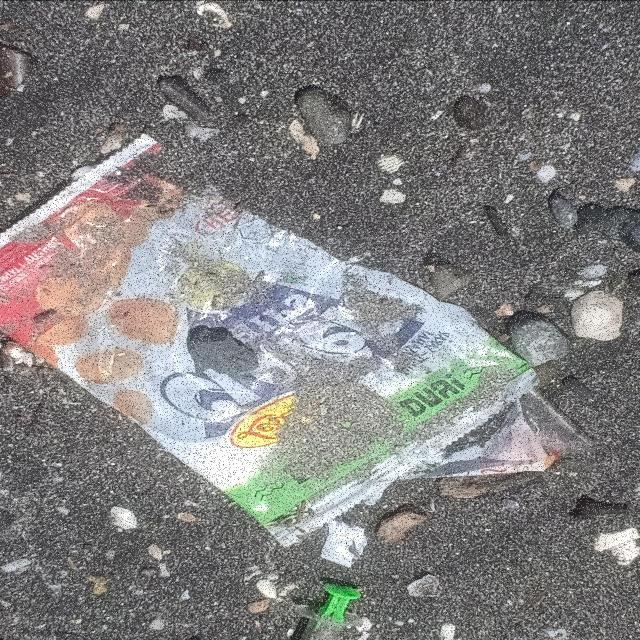plastic_waste: (2, 131, 545, 553)
